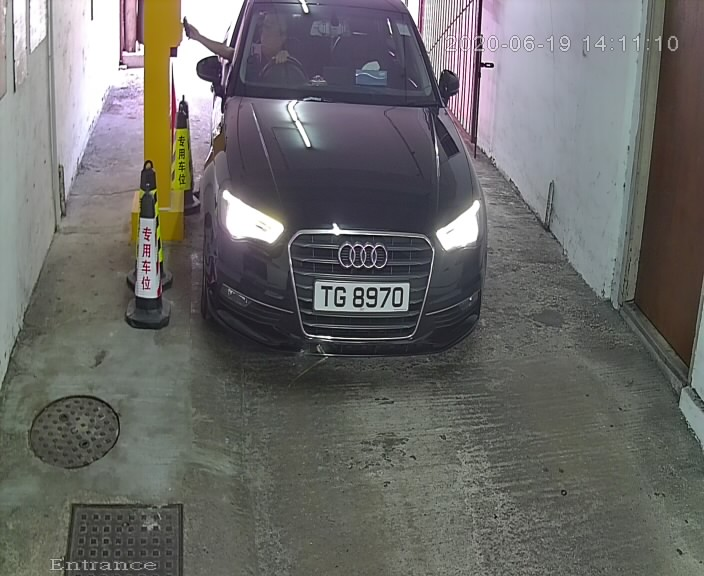privatecar: (202, 3, 502, 363)
